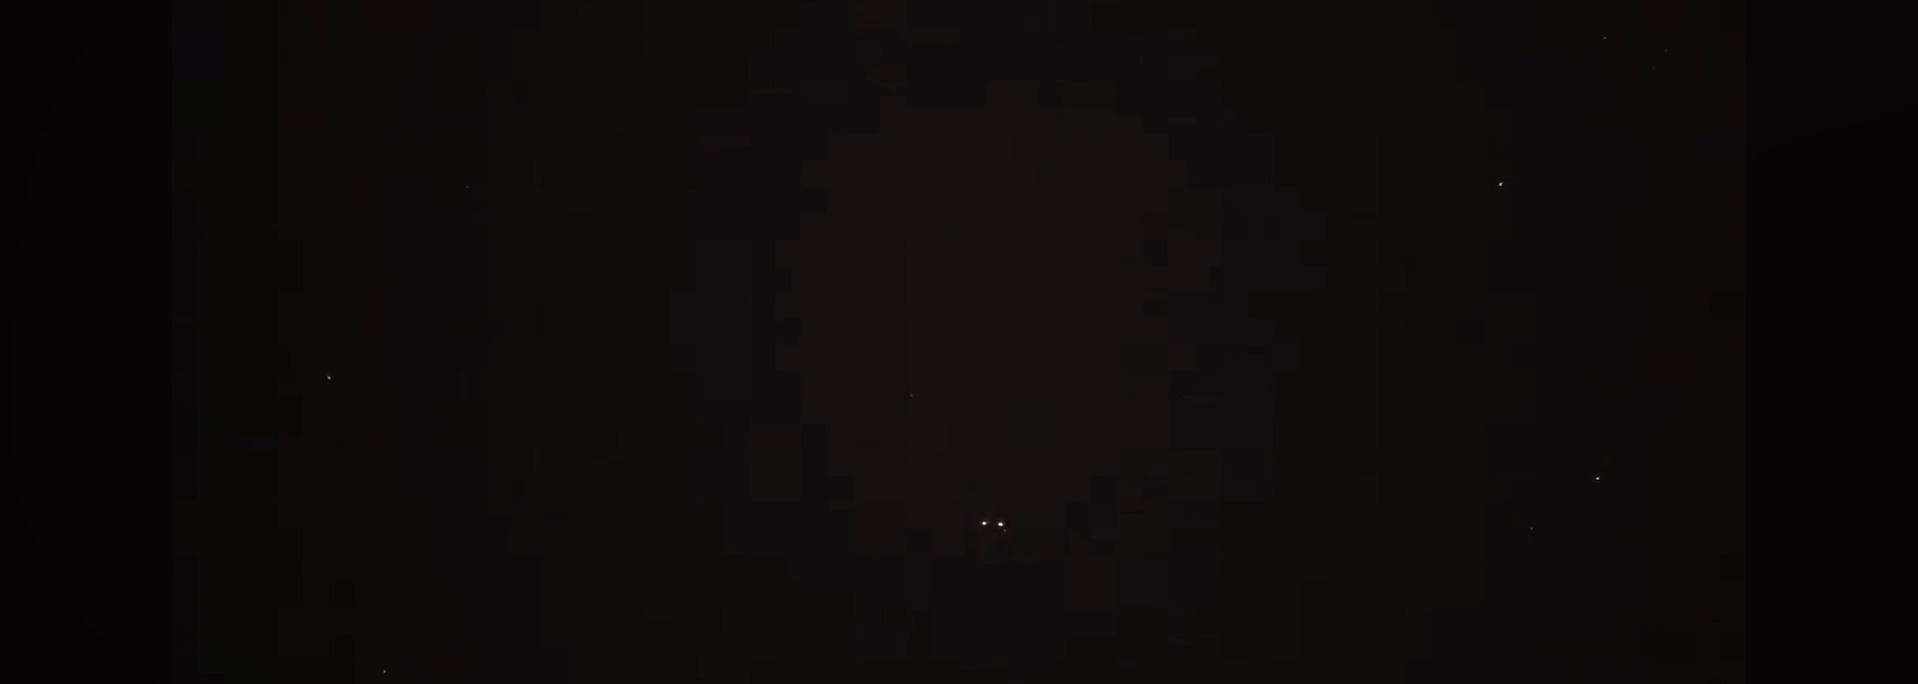Plane: (976, 507, 1019, 538)
